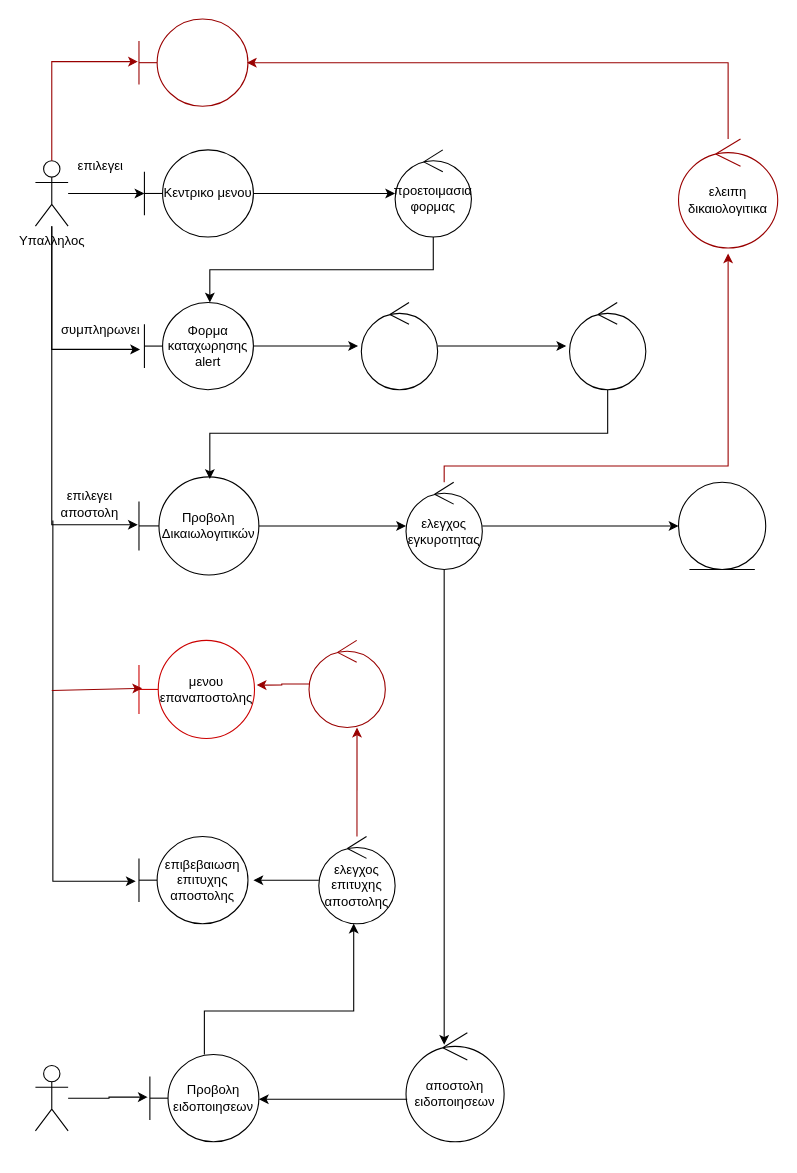
Image size: 797x1173. Some labels were removed from this diagram. The centre of each missing label's shape, as x and y in pixels:
"Αιμοδοτης" belongs at point 51,1097.
"αιτιολογια" belongs at point 607,345.
"βαση δεδομενων" belongs at point 721,525.
"εισαγωγη ομαδας αιματος" belongs at point 399,345.
"μυνημα σφαλματος" belongs at point 193,62.
"σφαλμα δικτυου" belongs at point 346,683.
